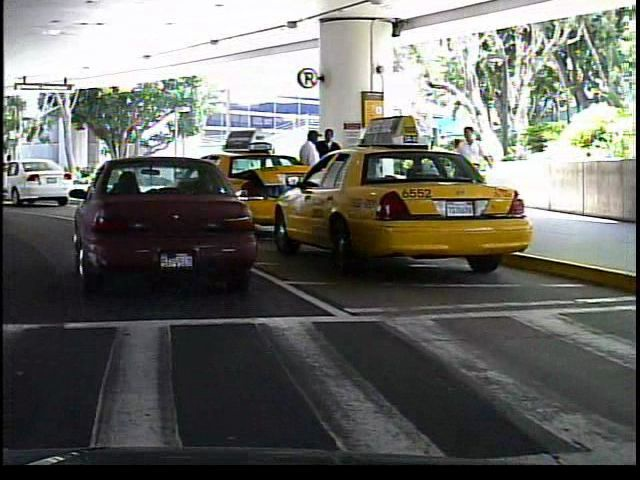person: (451, 120, 491, 220), (295, 126, 324, 217), (444, 131, 476, 207), (316, 126, 343, 211)
